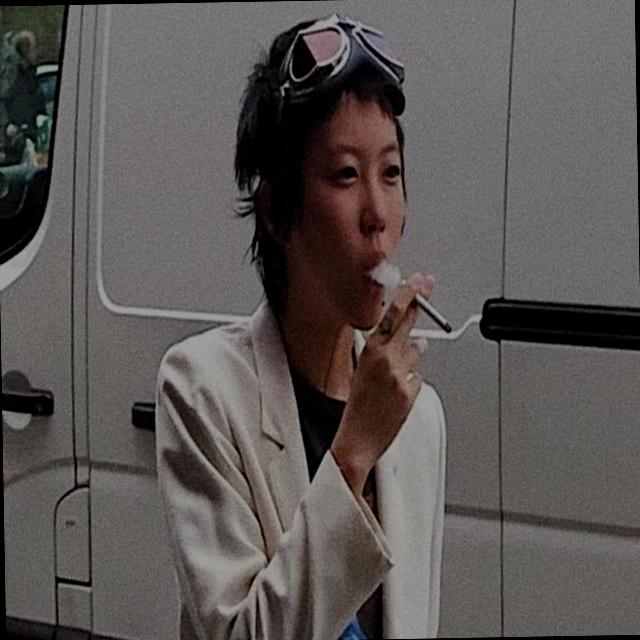cigarette: (374, 256, 466, 346)
